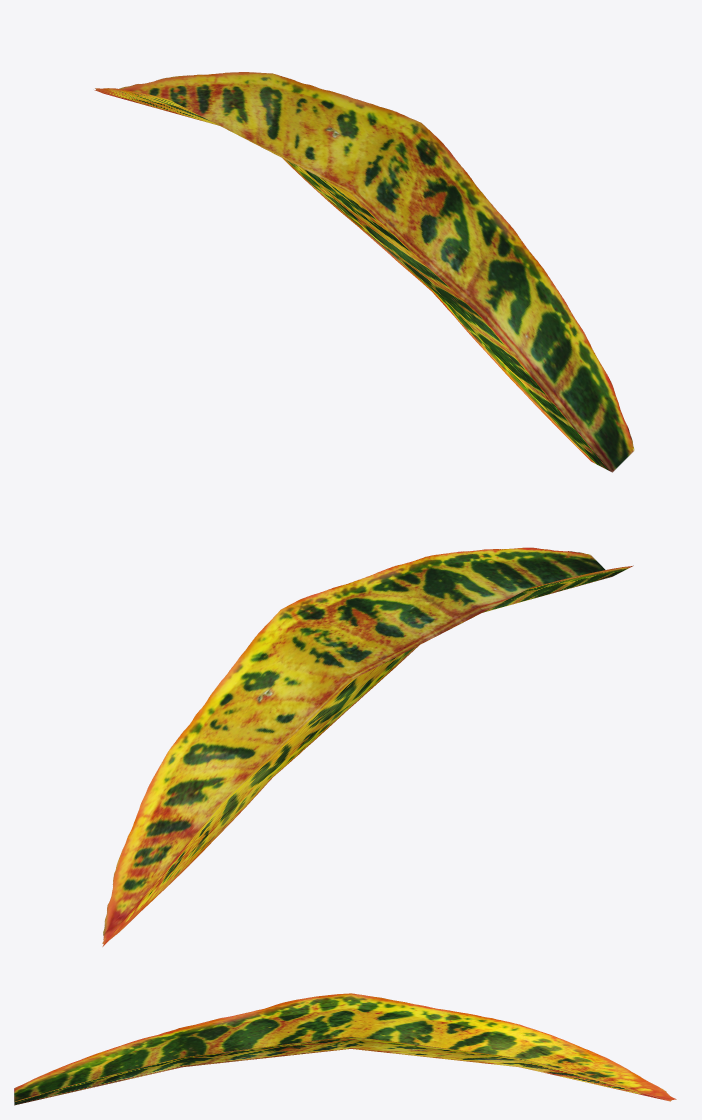
File: Leaf1_Snakeleaf.fbx
The picture shows the model from 3 angles, top to bottom: view 1: azimuth 30°, elevation 25°; view 2: azimuth 150°, elevation 25°; view 3: azimuth 270°, elevation 25°; orthographic projection. The views are drawn at different scales.
Visible parts, largest first — view 1: Plane; view 2: Plane; view 3: Plane.
Part boxes in pixels (x1,y1,x2,y2): Plane: (94, 72, 634, 472); Plane: (102, 547, 633, 946); Plane: (14, 993, 676, 1105).
Size of the model in its own units: 101 by 93.27 by 610.
